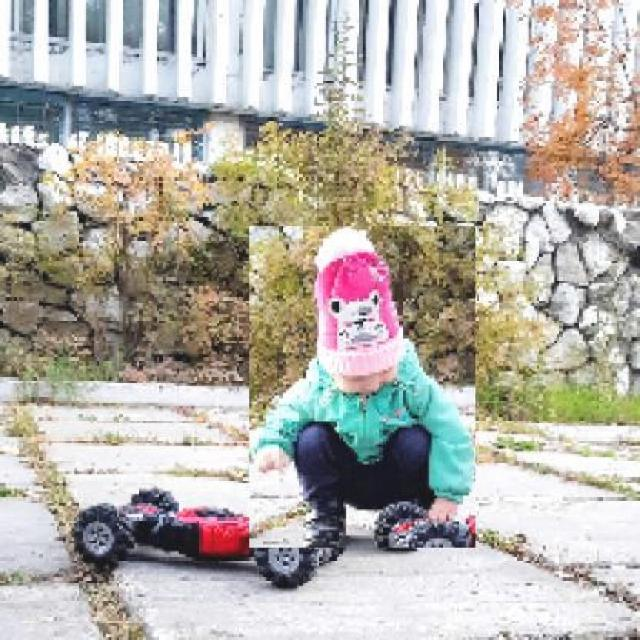child: (248, 227, 475, 550)
